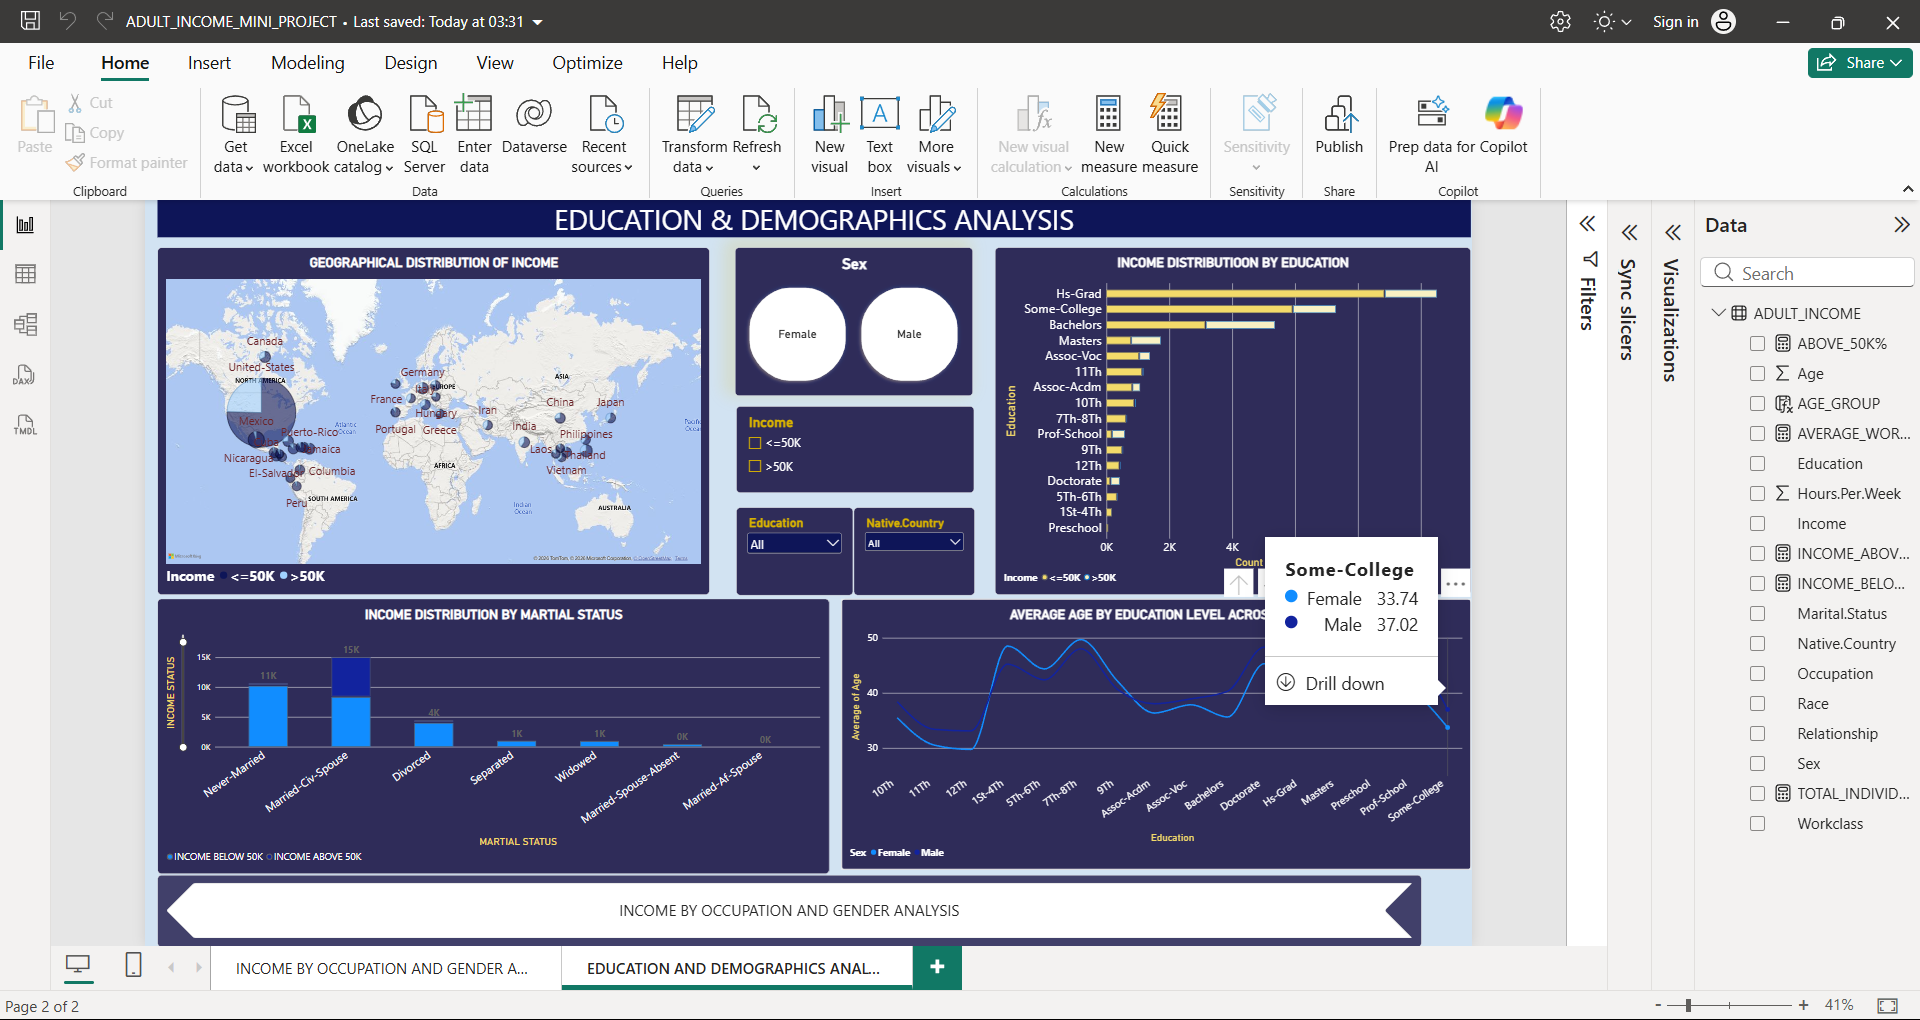

The dashboard page shown, as its layout file describes it:
{"tool":"powerbi","page":{"name":"EDUCATION AND DEMOGRAPHICS ANALYSIS","canvas":[2560,1440],"ordinal":1},"visuals":[{"type":"barChart","title":"INCOME DISTRIBUTIOON BY EDUCATION","fields":{"Category":["ADULT_INCOME.Education"],"Series":["ADULT_INCOME.Income"],"Y":["CountNonNull(ADULT_INCOME.Education)"]},"box":[1641.7,91.8,918.3,670.6],"z":0},{"type":"lineChart","title":"AVERAGE AGE BY EDUCATION LEVEL ACROSS SEX","fields":{"Category":["ADULT_INCOME.Education","ADULT_INCOME.Income"],"Series":["ADULT_INCOME.Sex"],"Y":["Avg(ADULT_INCOME.Age)"]},"box":[1344,770.8,1216,523.1],"z":1000},{"type":"map","title":"GEOGRAPHICAL DISTRIBUTION OF INCOME","fields":{"Category":["ADULT_INCOME.Native.Country"],"Series":["ADULT_INCOME.Income"],"Size":["CountNonNull(ADULT_INCOME.Native.Country)"]},"box":[25,91.8,1065.7,670.6],"z":2000},{"type":"columnChart","title":"INCOME DISTRIBUTION BY MARTIAL STATUS ","fields":{"Category":["ADULT_INCOME.Marital.Status"],"Y":["ADULT_INCOME.INCOME_BELOW_50K","ADULT_INCOME.INCOME_ABOVE_50K"]},"box":[25,770.8,1296.7,531.5],"z":3000},{"type":"slicer","fields":{"Values":["ADULT_INCOME.Native.Country"]},"box":[1369,592.7,233.7,169.7],"z":6001},{"type":"advancedSlicerVisual","fields":{"Values":["ADULT_INCOME.Sex"]},"box":[1138.1,91.8,459.1,286.6],"z":6002},{"type":"slicer","fields":{"Values":["ADULT_INCOME.Education"]},"box":[1140.9,592.7,225.4,169.7],"z":6003},{"type":"slicer","fields":{"Values":["ADULT_INCOME.Income"]},"box":[1140.9,397.9,459.1,167],"z":6004},{"type":"pageNavigator","box":[25,1302.3,2440.3,139.1],"z":6005},{"type":"textbox","box":[25,0,2535,72.3],"z":6007}]}

Visuals, with their boxes on the page's 2560x1440 design canvas (x1, y1, x2, y2). These are canvas units, not pixel positions in the 1920x1020 screenshot, which may show the page scaled, cropped or inside an application window:
"INCOME DISTRIBUTIOON BY EDUCATION" barChart: select_region(1642, 92, 2560, 762)
"AVERAGE AGE BY EDUCATION LEVEL ACROSS SEX" lineChart: select_region(1344, 771, 2560, 1294)
"GEOGRAPHICAL DISTRIBUTION OF INCOME" map: select_region(25, 92, 1091, 762)
"INCOME DISTRIBUTION BY MARTIAL STATUS " columnChart: select_region(25, 771, 1322, 1302)
slicer - ADULT_INCOME.Native.Country: select_region(1369, 593, 1603, 762)
advancedSlicerVisual - ADULT_INCOME.Sex: select_region(1138, 92, 1597, 378)
slicer - ADULT_INCOME.Education: select_region(1141, 593, 1366, 762)
slicer - ADULT_INCOME.Income: select_region(1141, 398, 1600, 565)
pageNavigator: select_region(25, 1302, 2465, 1441)
textbox: select_region(25, 0, 2560, 72)
